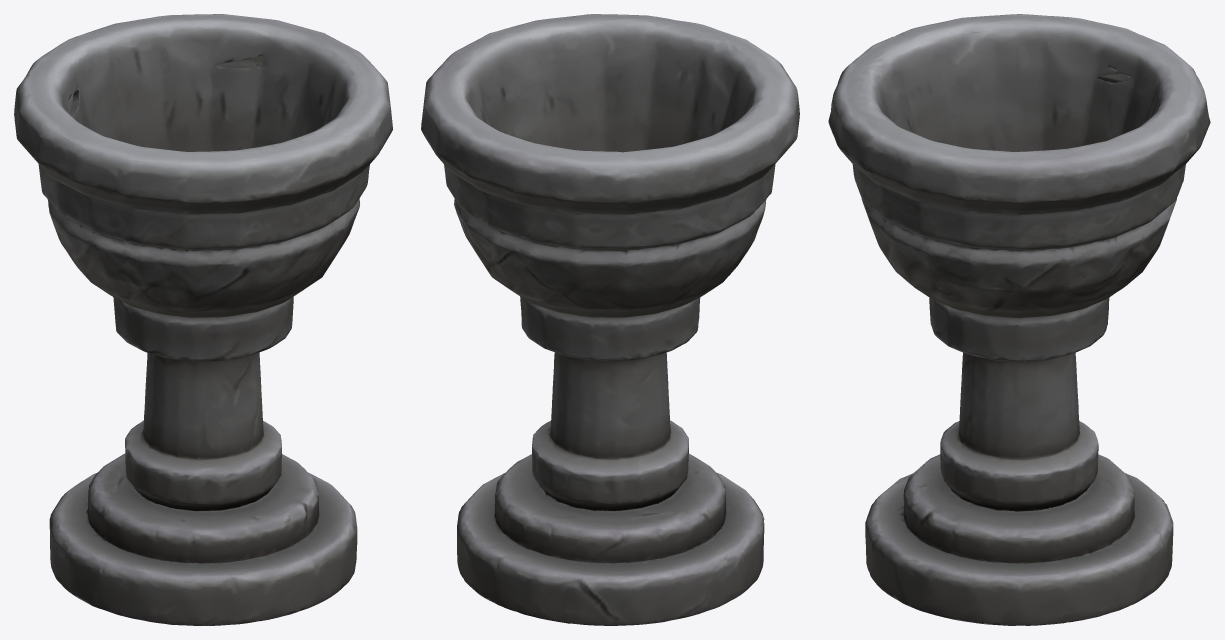
The model's file is crypt_ChaliceStand.glb.
3 renders of one model, left to right at view 1: azimuth 30°, elevation 25°; view 2: azimuth 150°, elevation 25°; view 3: azimuth 270°, elevation 25°, orthographic.
Visible parts, largest first — view 1: world; view 2: world; view 3: world.
Part boxes in pixels (x1,y1,x2,y2): world: (14,14,392,625); world: (421,14,799,625); world: (828,14,1210,625).
Size of the model in its own units: 0.7303 by 1 by 0.7298.
Materials: 1 (1 with a texture image).
